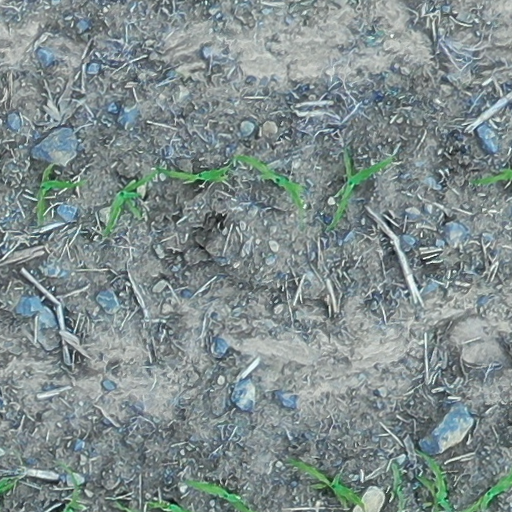planta: (329, 155, 393, 229), (235, 155, 303, 212), (104, 167, 162, 233), (36, 166, 85, 218), (155, 162, 231, 182)
